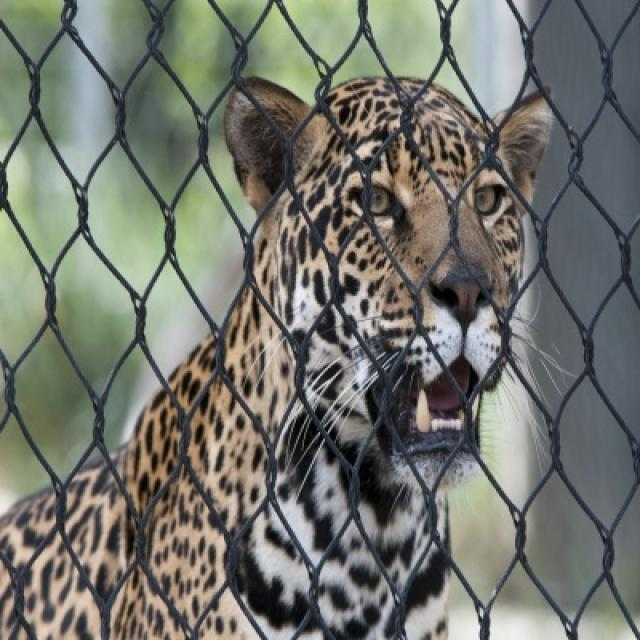Jaguar: (0, 77, 554, 638)
